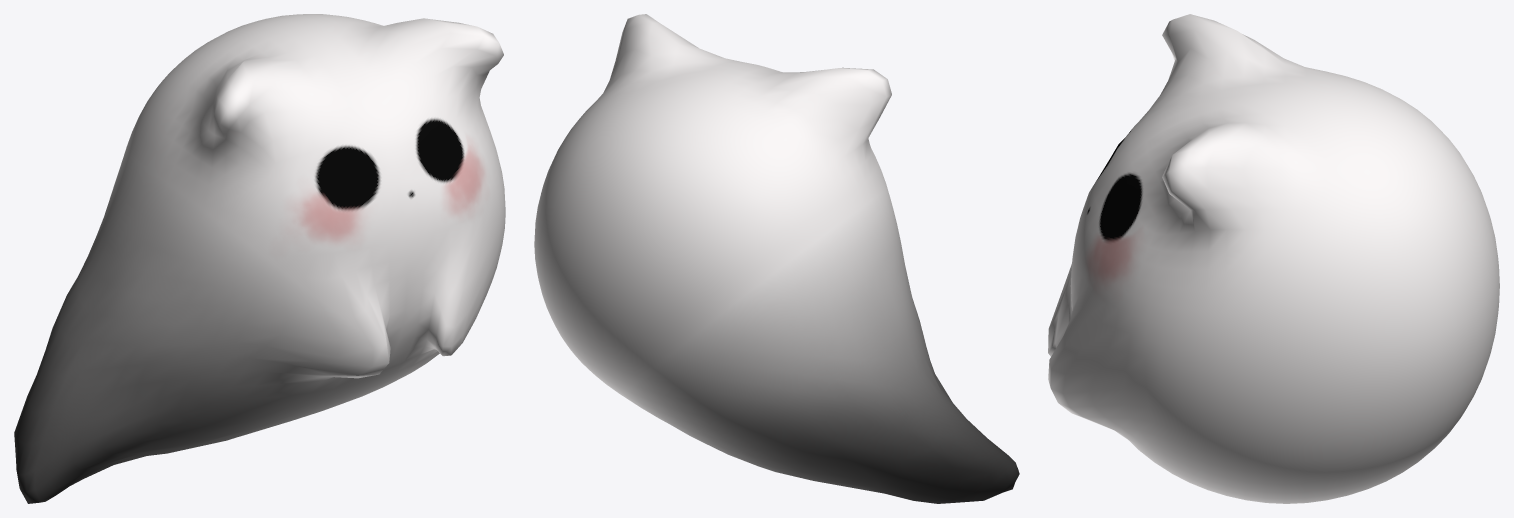
3 renders of one model, left to right at view 1: azimuth 30°, elevation 25°; view 2: azimuth 150°, elevation 25°; view 3: azimuth 270°, elevation 25°, orthographic. The views are drawn at different scales.
Visible parts, largest first — view 1: cat_D_geo; view 2: cat_D_geo; view 3: cat_D_geo.
Boxes of the visible parts, box(x1,y1,x2,y2) form: cat_D_geo: box(14, 14, 505, 503); cat_D_geo: box(534, 14, 1019, 503); cat_D_geo: box(1048, 14, 1499, 503).
Bounding box in the file's own units: 5.17 × 4.23 × 3.79.
1 material, 1 textured.
